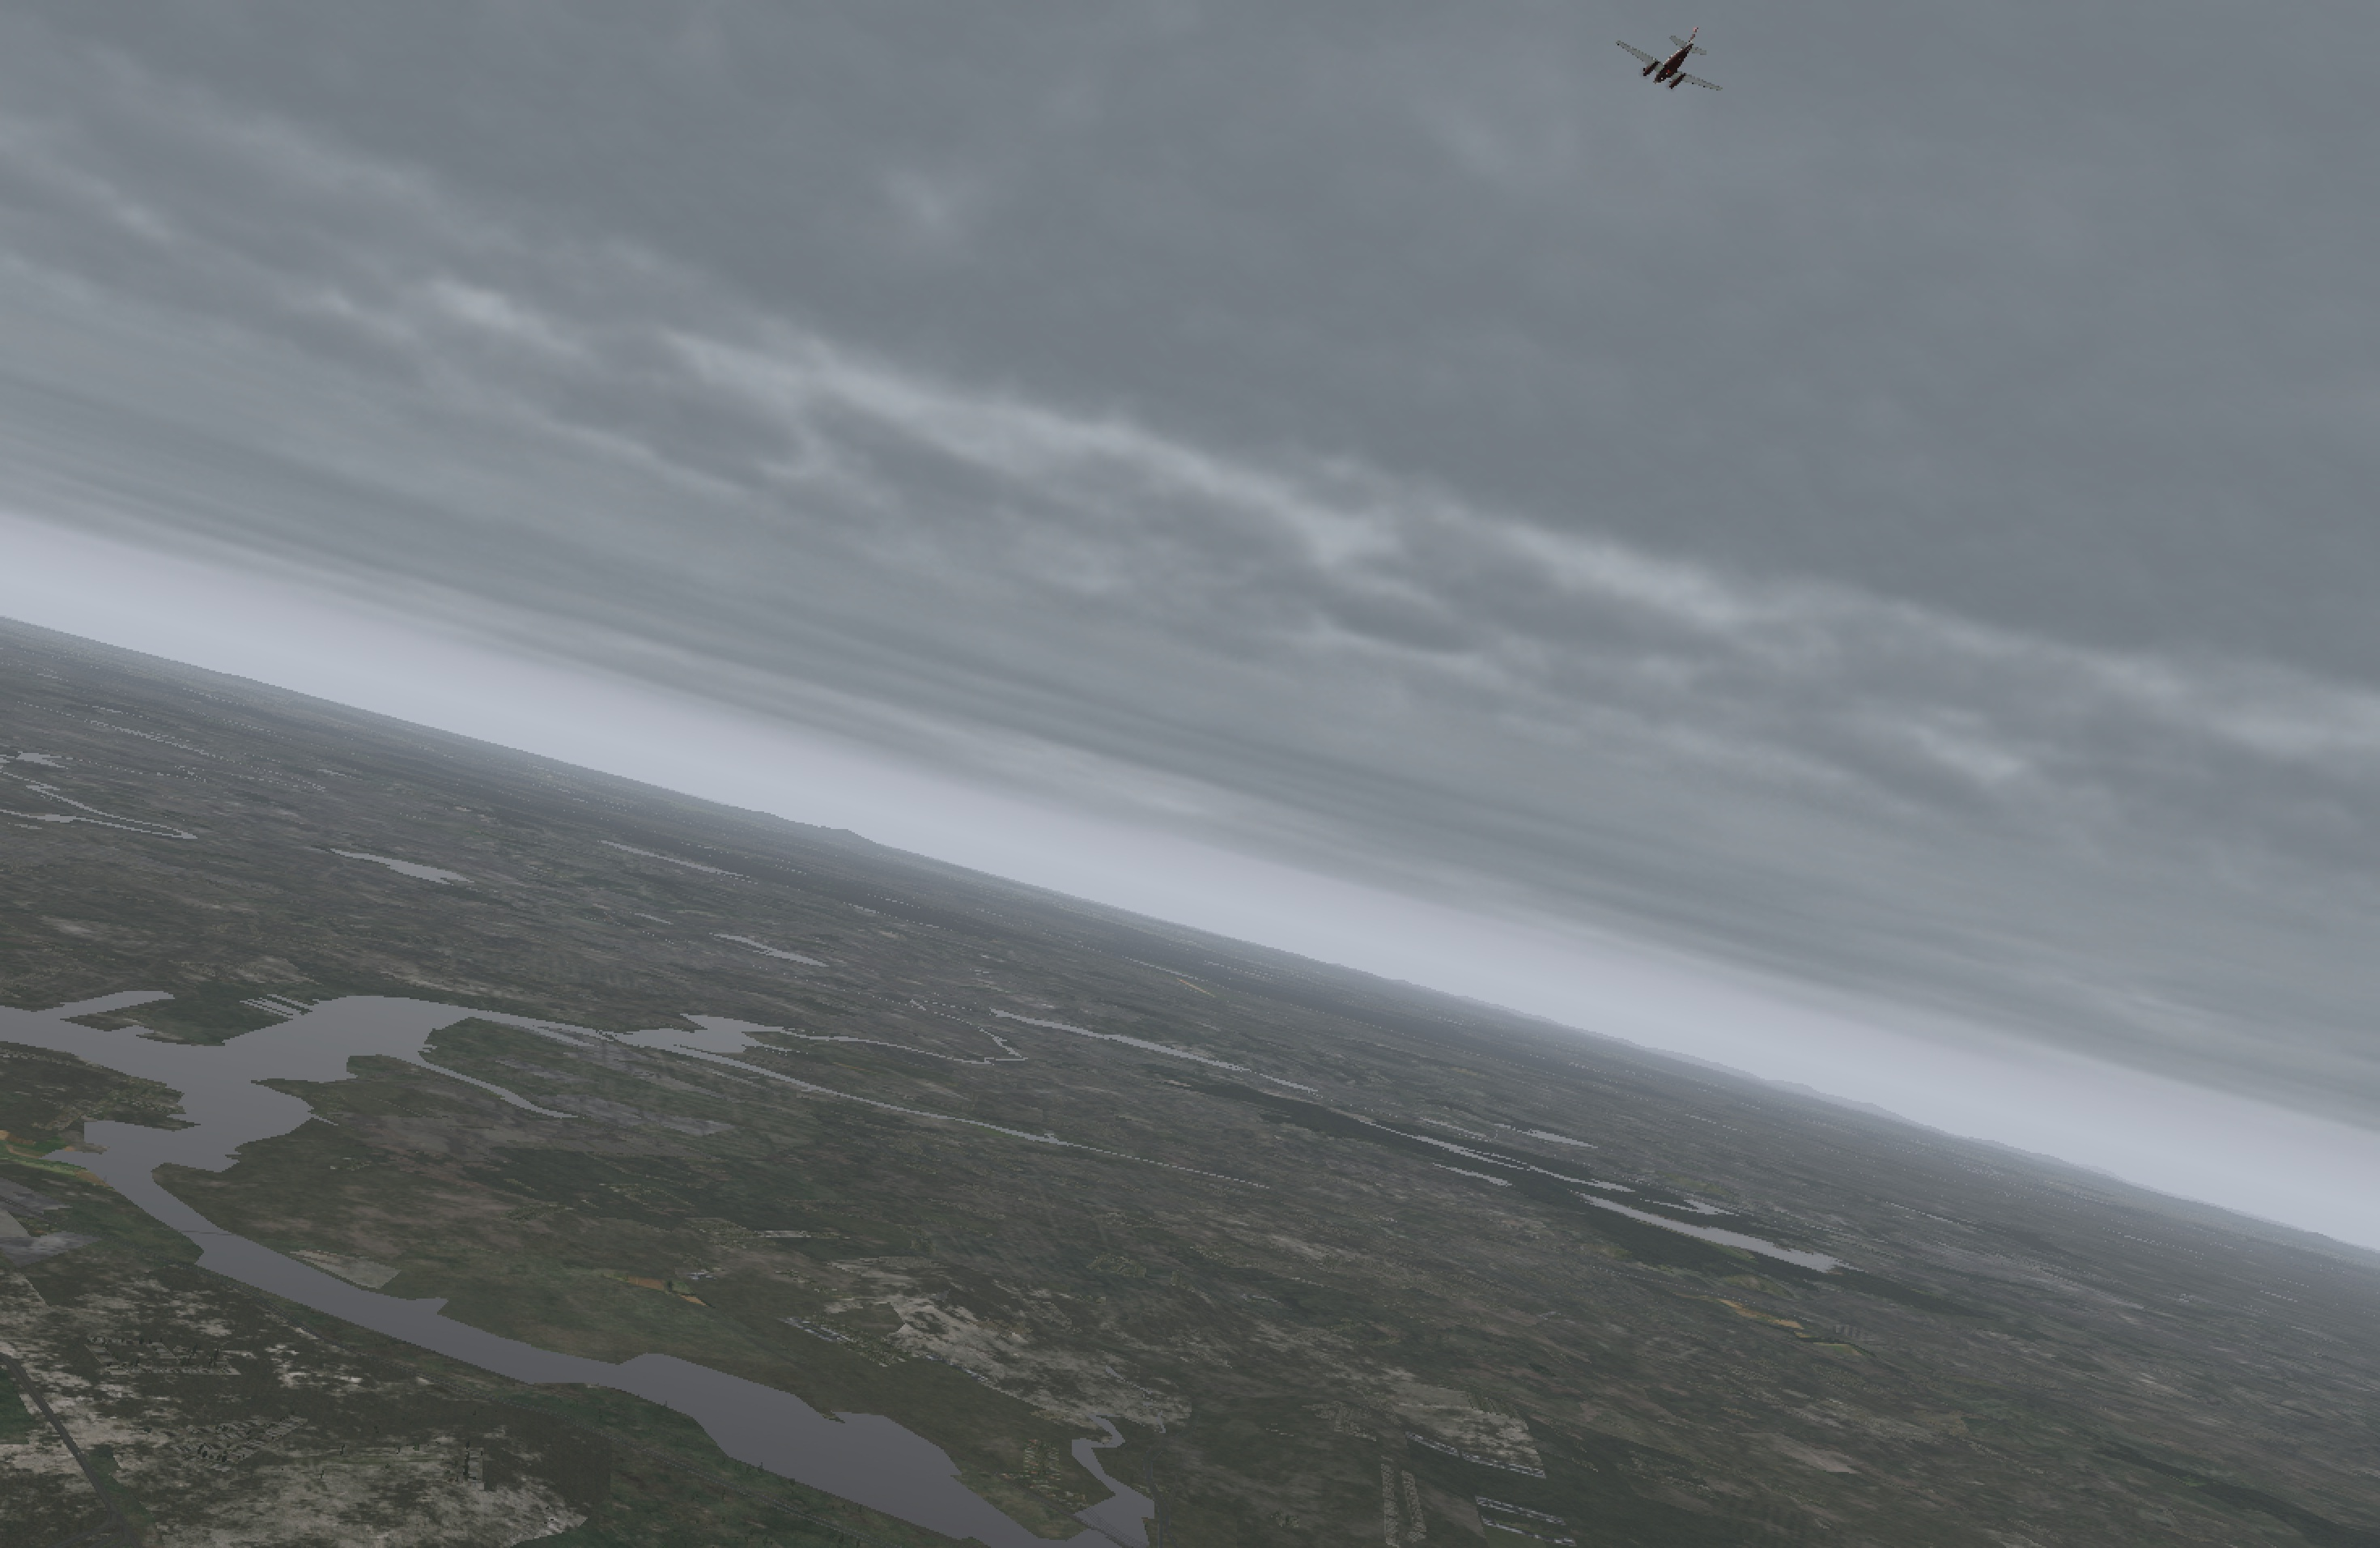aircraft: (1610, 52, 1721, 95)
